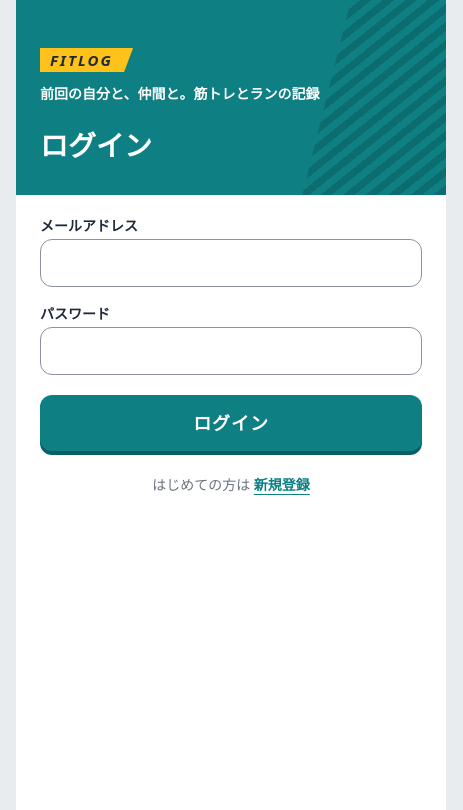
Scenario: LoginForm（S-01） › 失敗したら移動せず、メールかパスワードの違いとして伝える
The image size is (463, 810).
In the field labelled "メールアドレス": (231, 263) [40,239,422,287], type "a@example.com"
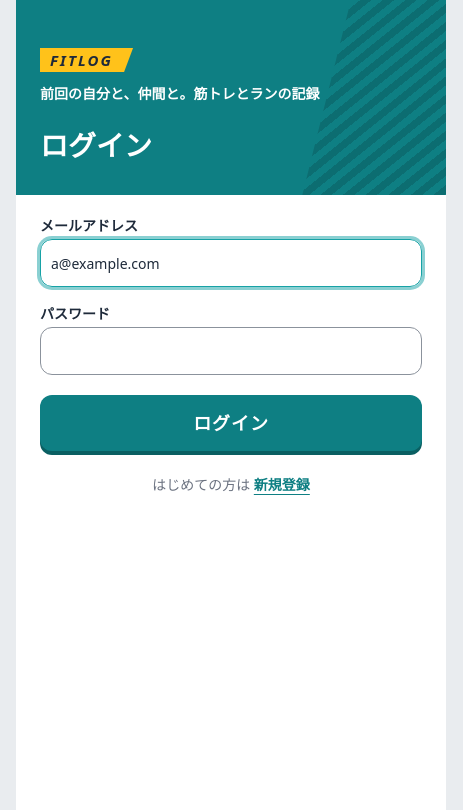
In the password field labelled "パスワード": (231, 351) [40,327,422,375], type "password123"
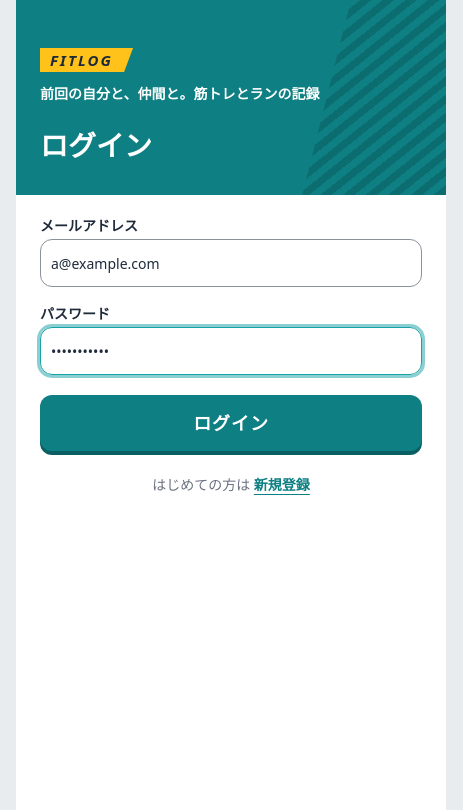
Click the button "ログイン": (231, 423) [40,395,422,451]
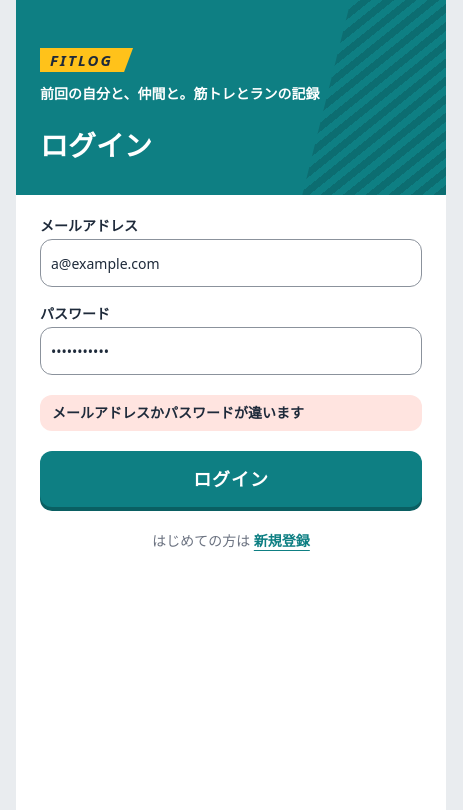
Result: the message reads "メールアドレスかパスワードが違います" at [52,403,304,422]
